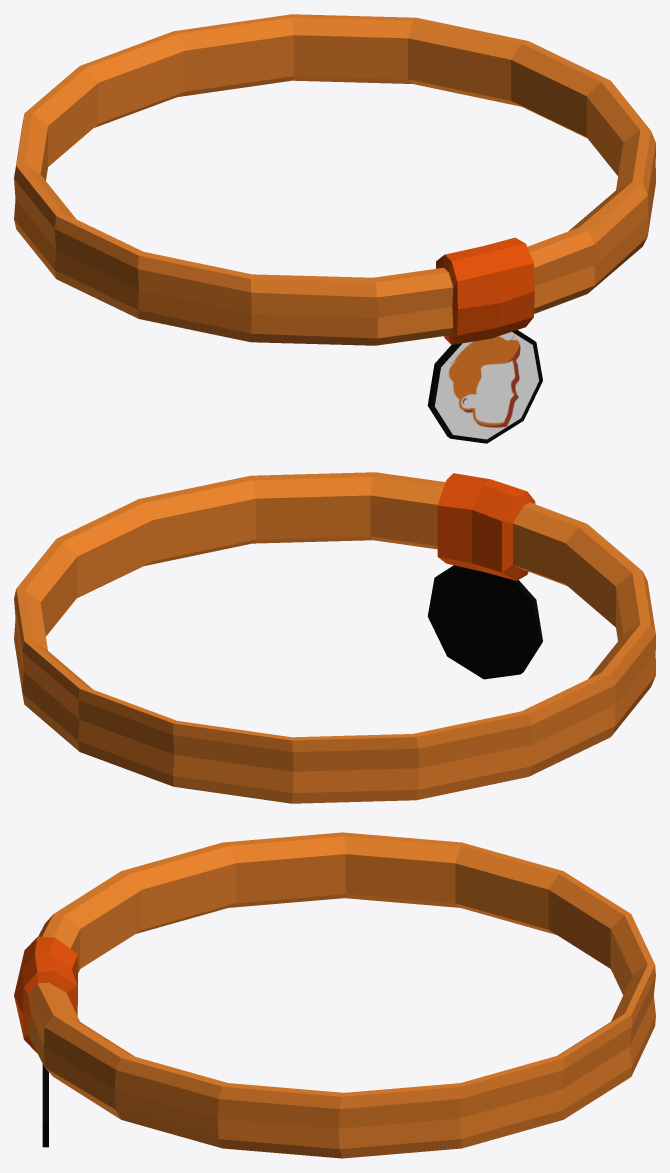
Rendered from Collar.fbx.
3 renders of one model, top to bottom at view 1: azimuth 30°, elevation 25°; view 2: azimuth 150°, elevation 25°; view 3: azimuth 270°, elevation 25°, orthographic. The views are drawn at different scales.
Visible parts, largest first — view 1: Collar; view 2: Collar; view 3: Collar.
Part boxes in pixels (x1,y1,x2,y2): Collar: (14, 14, 655, 443); Collar: (14, 472, 655, 803); Collar: (14, 832, 655, 1158).
Size of the model in its own units: 209 by 69.42 by 212.
